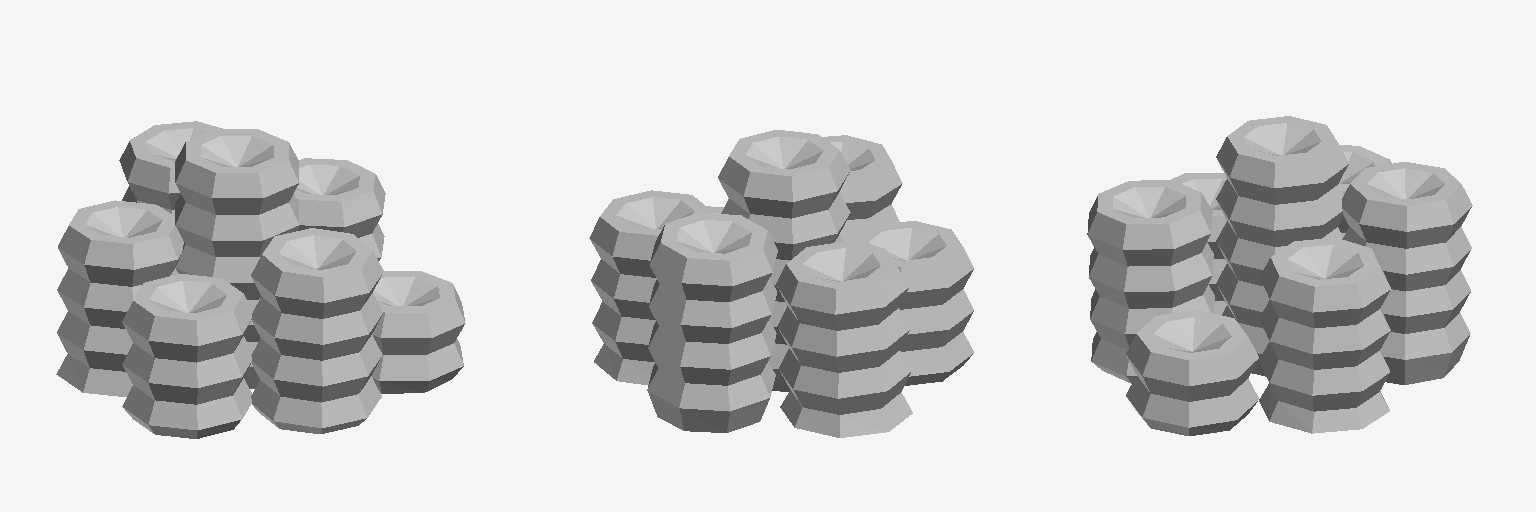
File: coin_stack_medium.obj
3 renders of one model, left to right at view 1: azimuth 30°, elevation 25°; view 2: azimuth 150°, elevation 25°; view 3: azimuth 270°, elevation 25°, orthographic.
Visible parts, largest first — view 1: coin_stack_medium_Cube.017; view 2: coin_stack_medium_Cube.017; view 3: coin_stack_medium_Cube.017.
Boxes of the visible parts, x1,y1,x2,y2 form: coin_stack_medium_Cube.017: [56, 121, 465, 438]; coin_stack_medium_Cube.017: [589, 130, 973, 437]; coin_stack_medium_Cube.017: [1087, 116, 1472, 435].
Size of the model in its own units: 0.9934 by 0.6407 by 1.03.